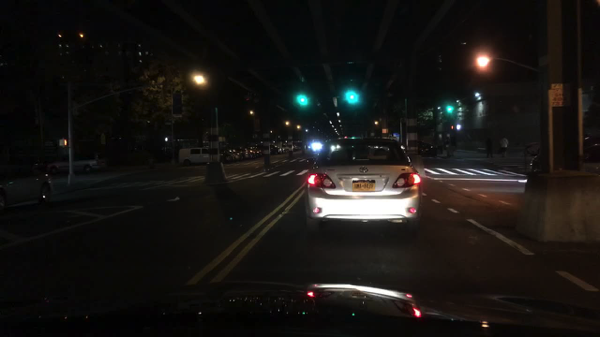car: (306, 137, 422, 236), (0, 162, 54, 213), (529, 135, 599, 174), (46, 152, 108, 177), (418, 141, 436, 157), (219, 149, 236, 164), (525, 141, 542, 156), (226, 147, 241, 163), (275, 140, 288, 153), (310, 140, 323, 152), (238, 148, 249, 159), (232, 149, 243, 160), (249, 146, 261, 156), (285, 143, 301, 150), (270, 144, 281, 154), (245, 148, 255, 158), (253, 145, 262, 154)
person: (496, 135, 507, 158), (483, 135, 493, 159)
traffic light: (347, 84, 357, 102), (297, 90, 305, 106), (446, 103, 454, 114), (58, 138, 66, 147), (455, 122, 462, 130), (448, 125, 454, 132), (163, 135, 169, 142)
truck: (177, 146, 226, 166)
